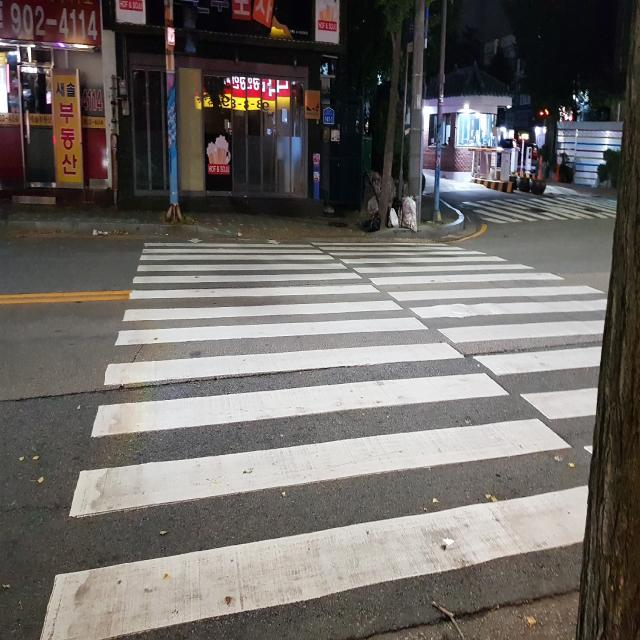횡단보도: (39, 236, 608, 640)
